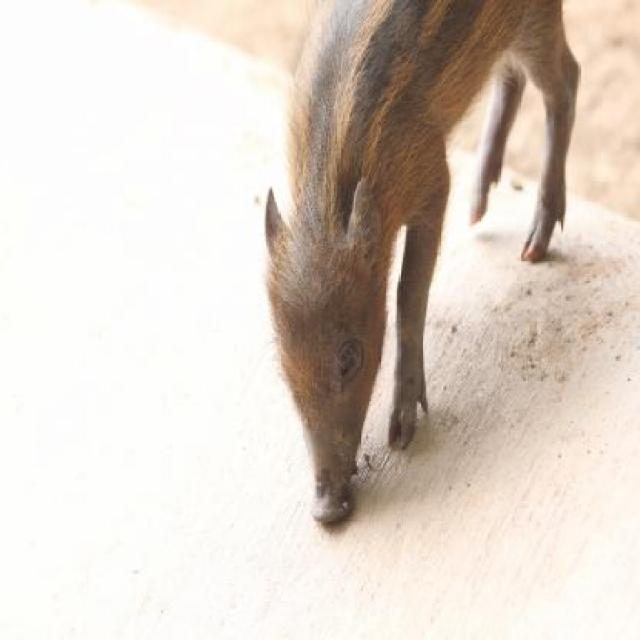pig: (262, 0, 584, 522)
